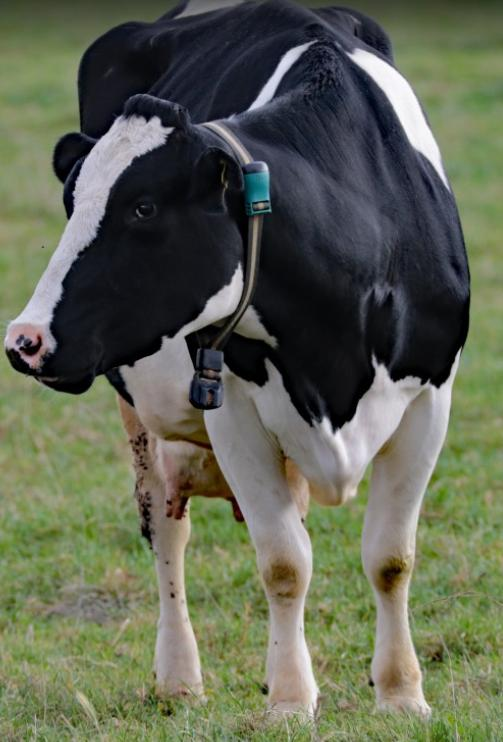cow: (4, 0, 474, 726)
